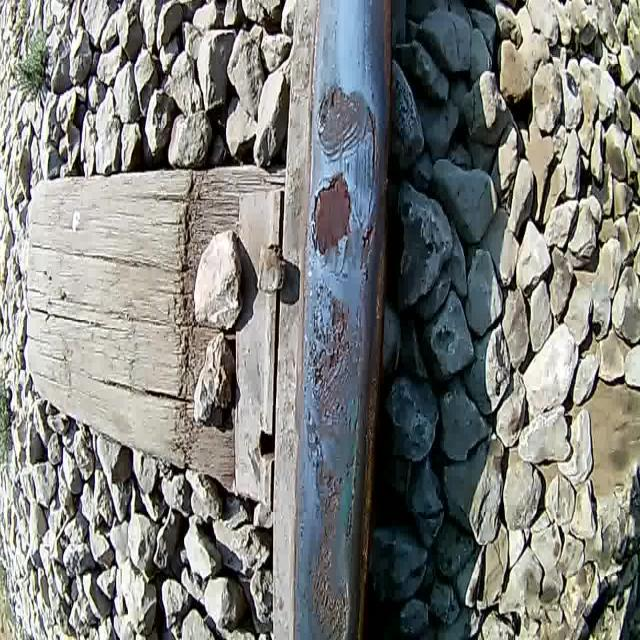Cracks: (312, 119, 372, 166), (362, 98, 381, 219), (306, 408, 326, 508), (343, 446, 361, 548)
Spallings: (310, 279, 352, 391), (308, 540, 352, 640), (310, 170, 353, 259), (324, 468, 344, 512), (360, 217, 378, 260), (329, 82, 339, 114)
Squats: (302, 409, 358, 640), (304, 271, 366, 438), (314, 80, 374, 166), (308, 167, 355, 260)
